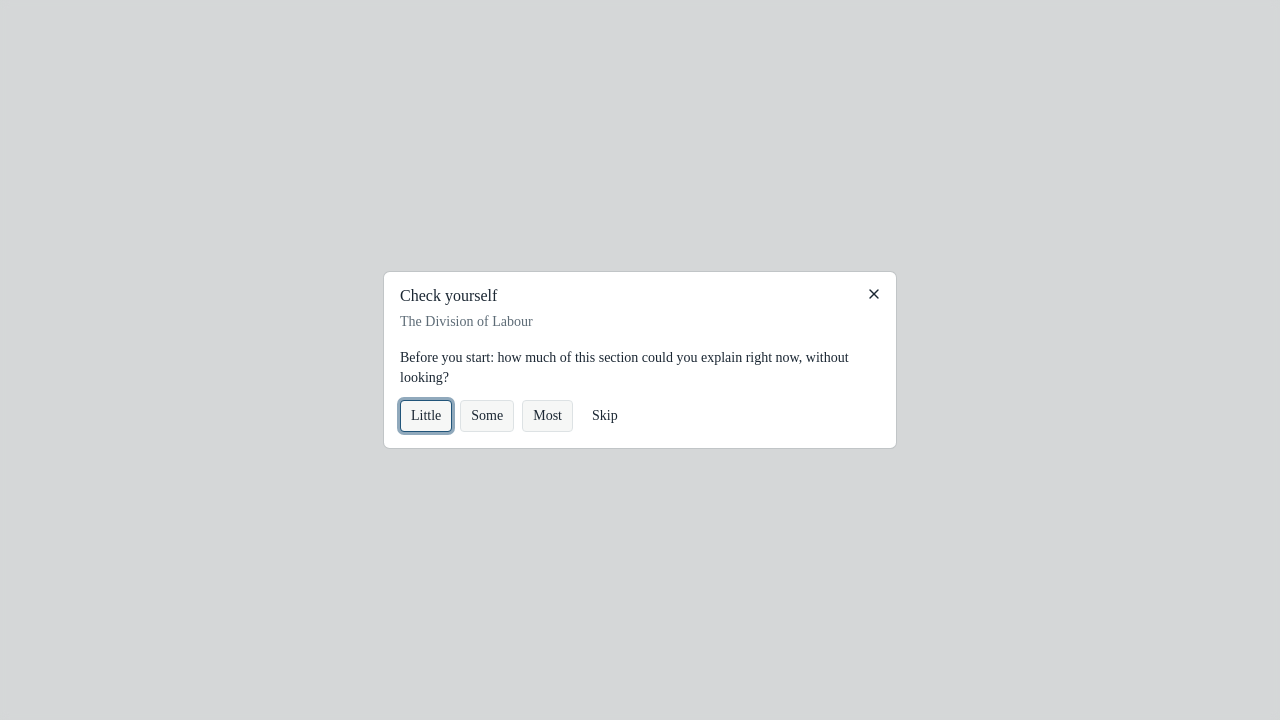
Test: CheckpointDialog › a refused explanation (429) shows catalog copy, not the server's detail, and keeps the draft
The width and height of the screenshot is (1280, 720).
Click the button "Skip" at [605, 416], box [581,400,629,432]
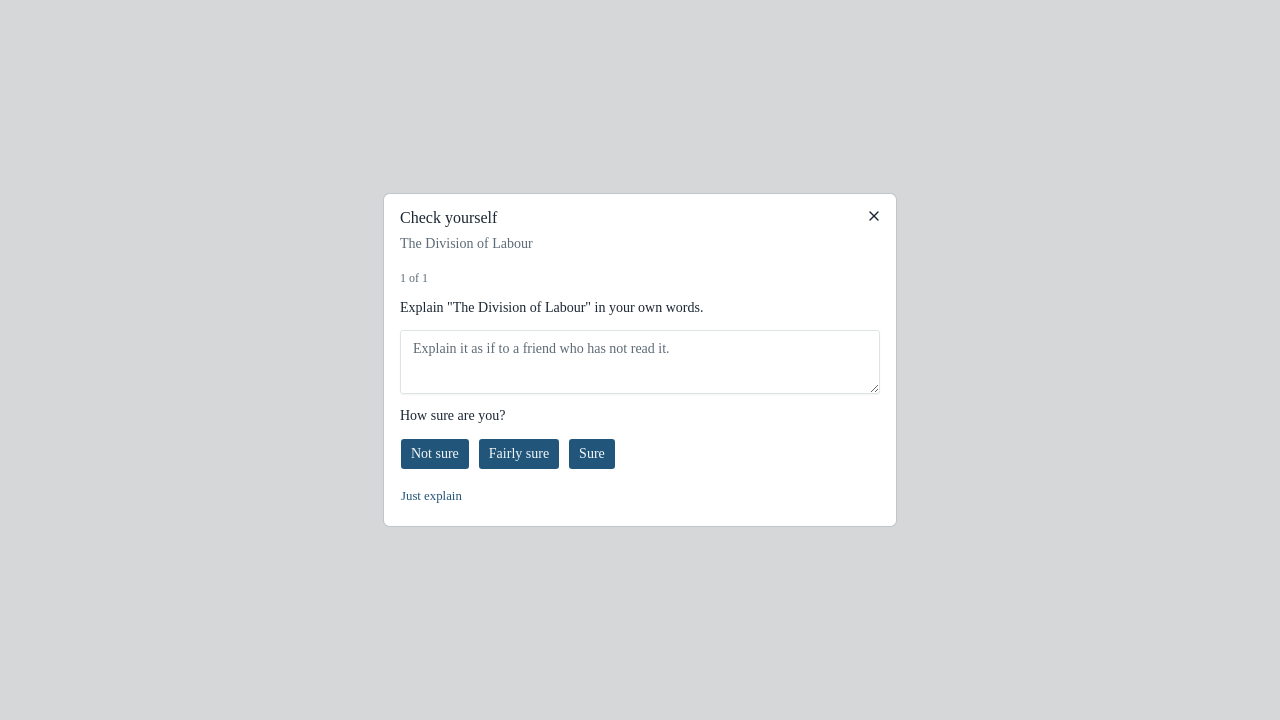
Type "many hands make pins" into the text box named "Your explanation" at [640, 362], box [400,330,880,394]
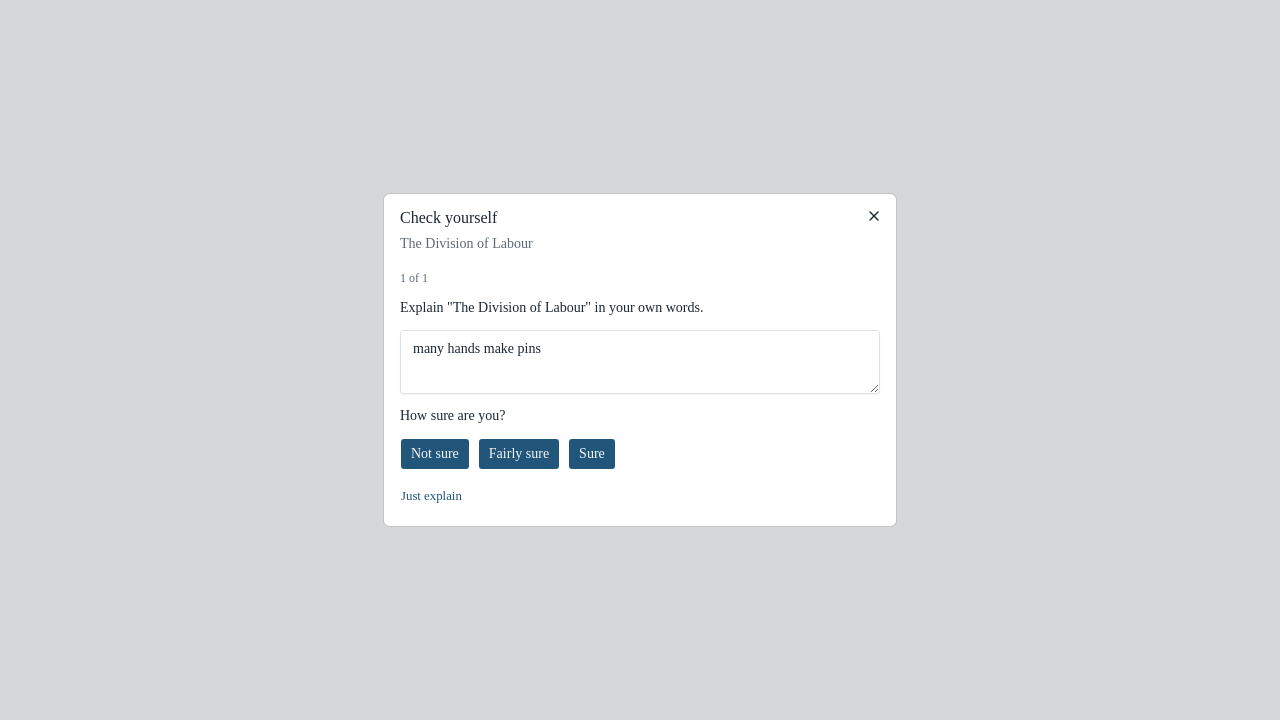
Click the button "Sure" at [592, 454], box [568,438,616,470]
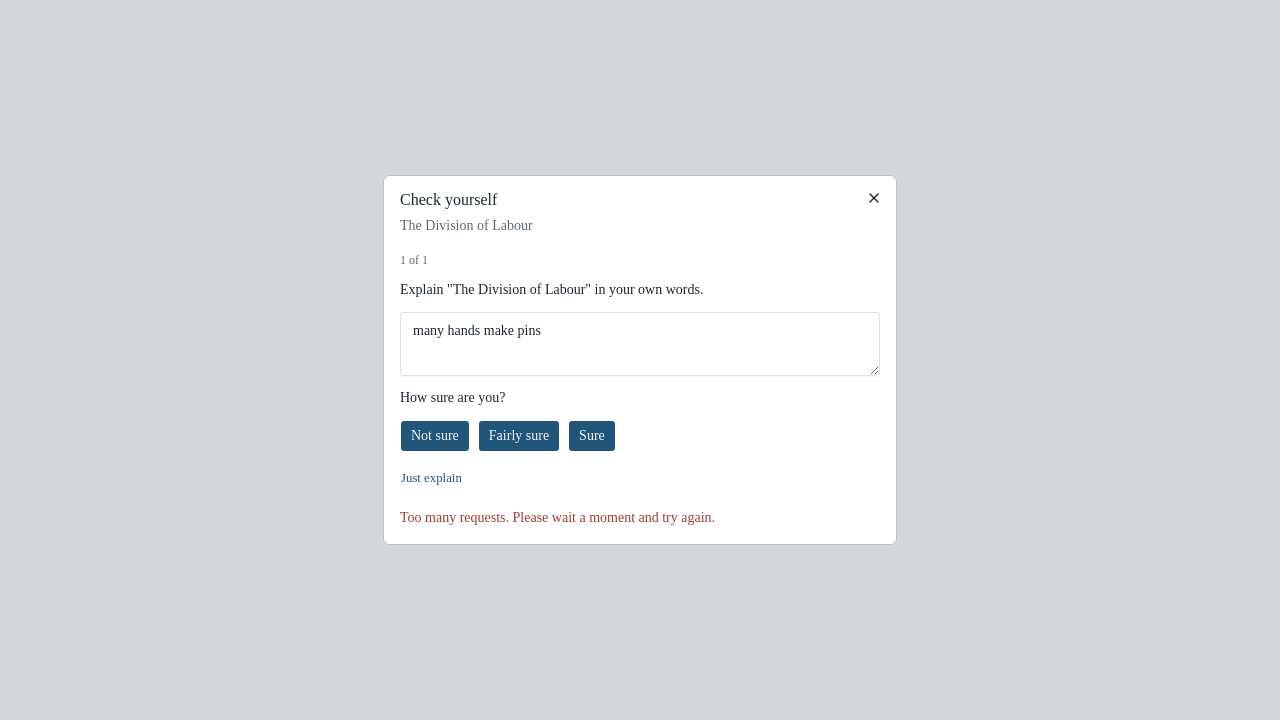
expect the button "Sure" is enabled: met, box [568,420,616,452]
expect the message reads "Too many requests. Please wait a moment and try again.": met, box [400,510,715,525]
